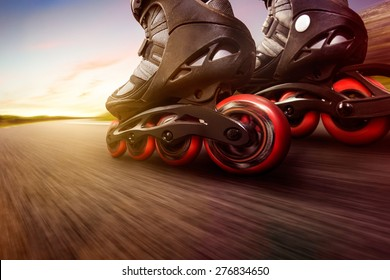roller_blade: (106, 1, 259, 170), (266, 2, 381, 127)
